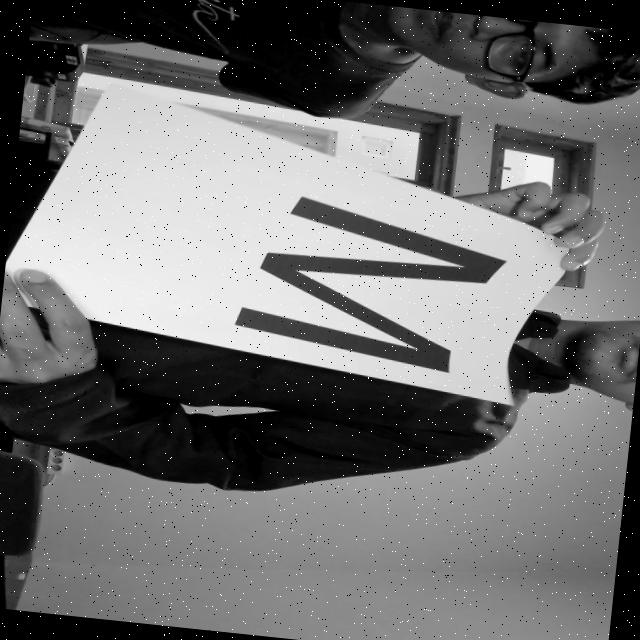m: (210, 178, 524, 380)
